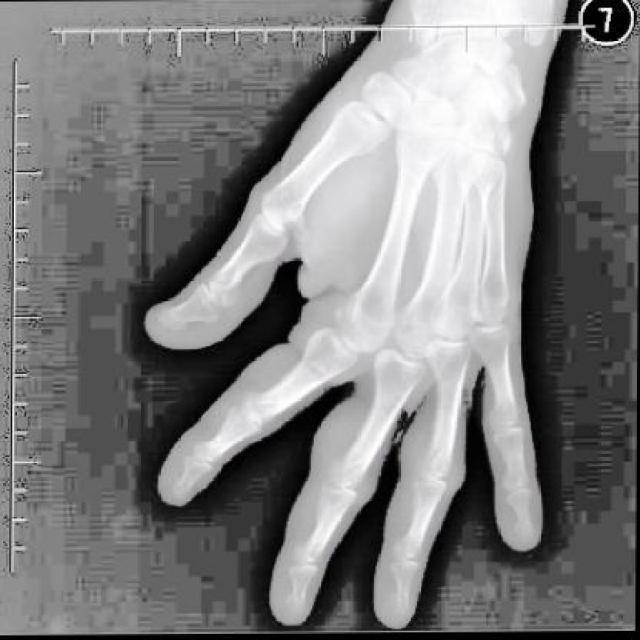Fracture: (214, 288, 240, 315)
